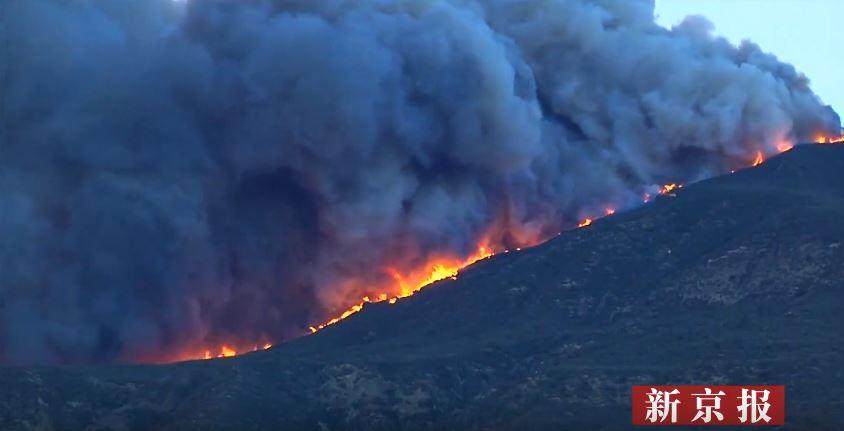fire: (394, 260, 457, 296), (202, 342, 252, 357)
smoke: (11, 6, 640, 159)
